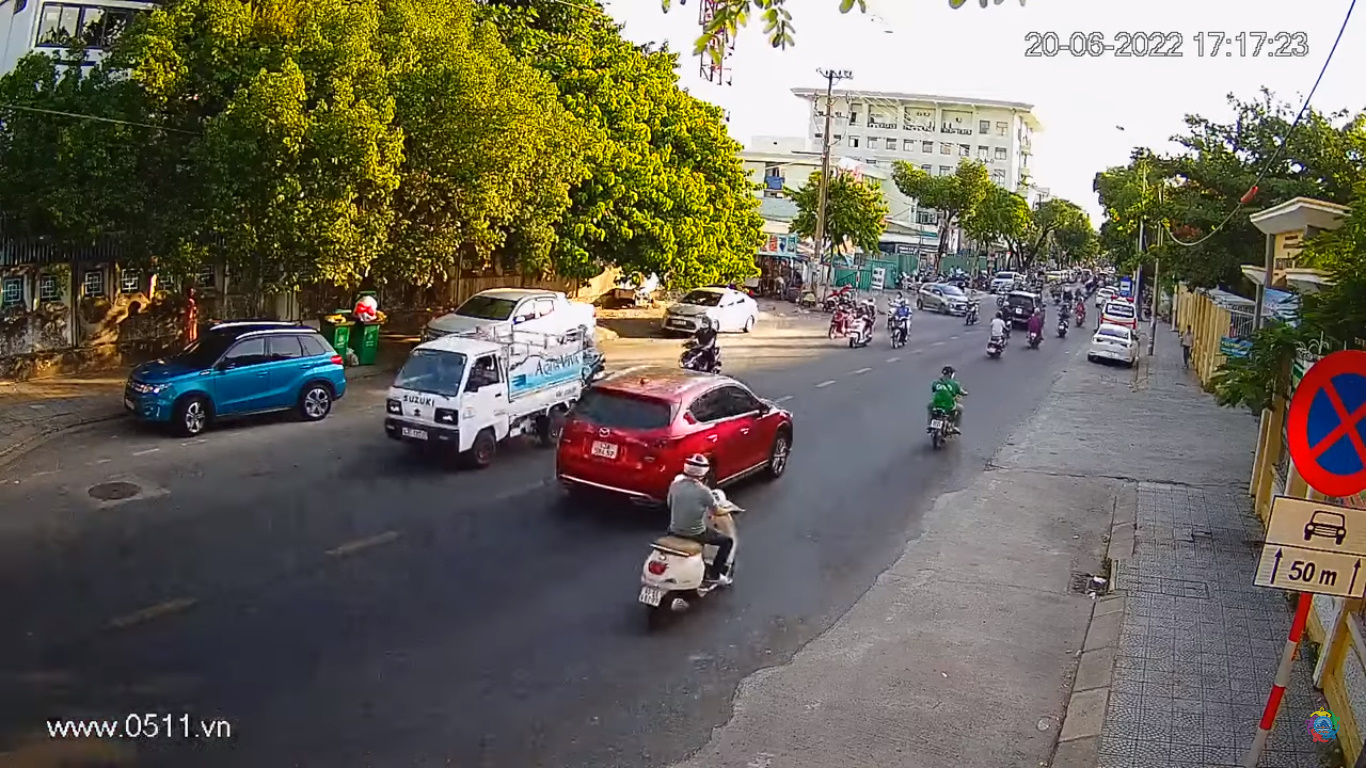car: (556, 362, 790, 523)
truck: (387, 324, 595, 464)
